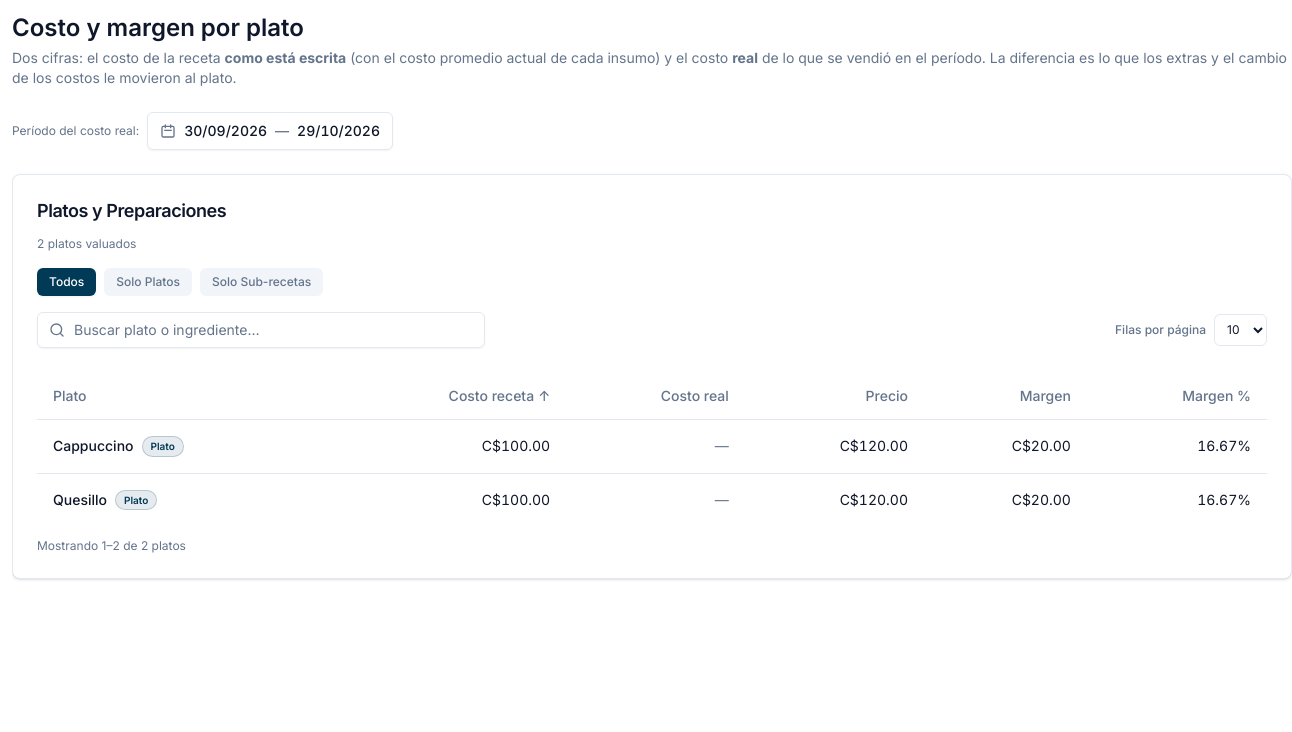
Test case: DishMarginsPage (R8) › searches by dish and by ingredient, and says so when nothing matches
Expected: the text "Cappuccino" is shown, [53,436,134,456]
Type "leche" into the field labelled "Buscar plato o ingrediente…" at (261, 330), box [37,312,485,348]
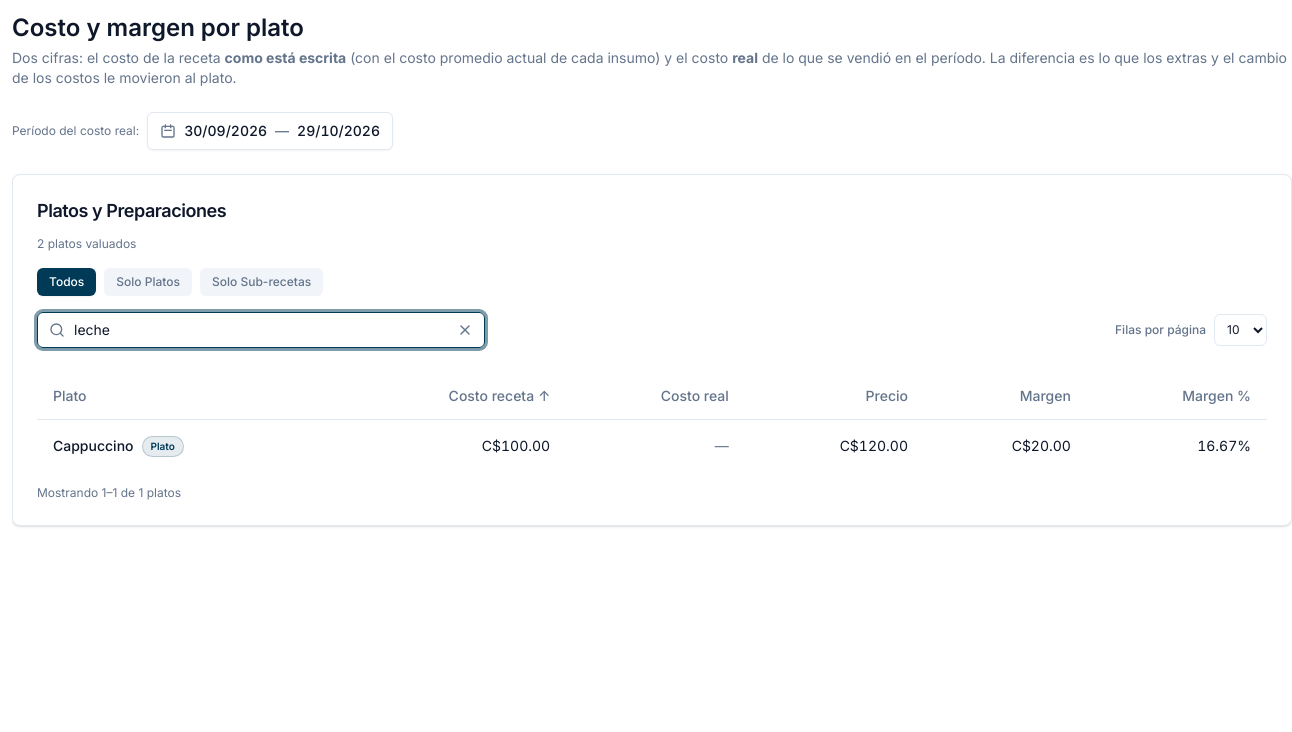
Expected: the text "Cappuccino" is shown, [53,436,134,456]
Now the text "Quesillo" is gone
Replace the text in the field named "Buscar" with "noexiste" at (261, 330), box [37,312,485,348]
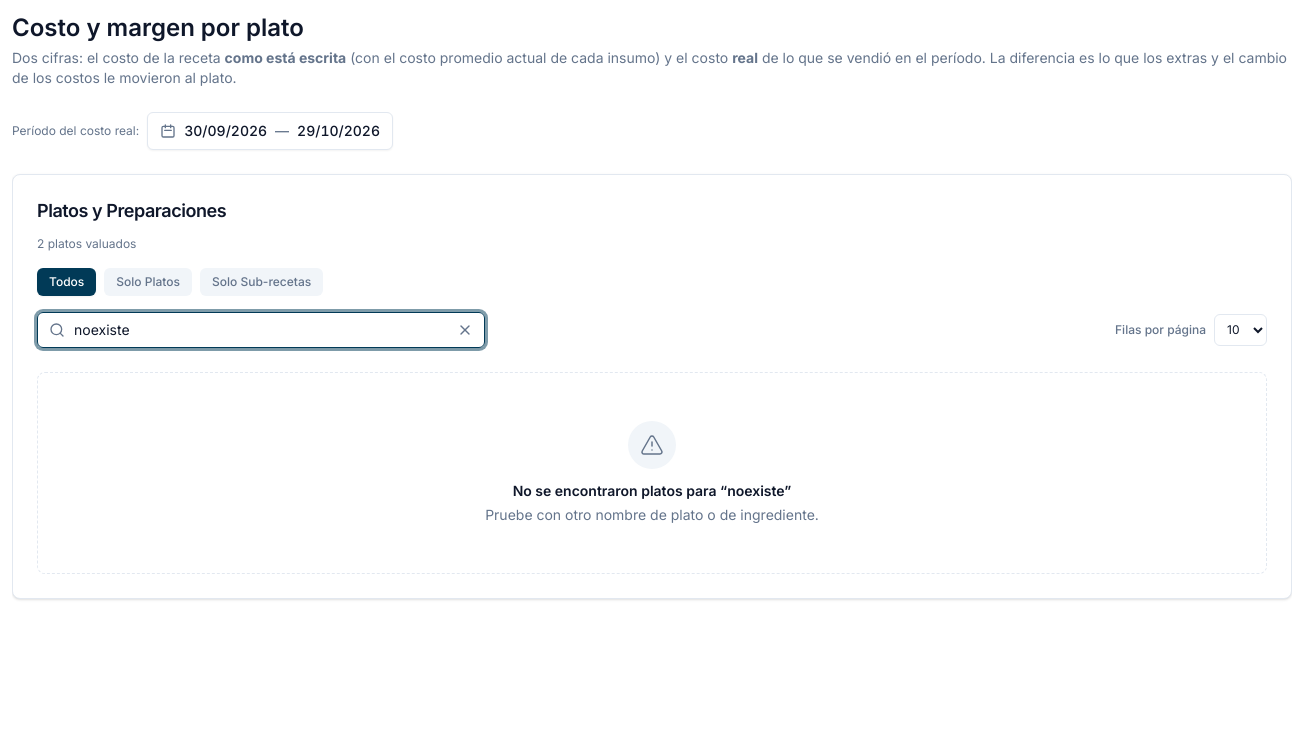
Expected: the button named "Limpiar búsqueda" is shown, [453,318,477,342]
Now the heading "No se encontraron platos para “noexiste”" is shown, box [513,481,791,501]
Now the text "Cappuccino" is gone
